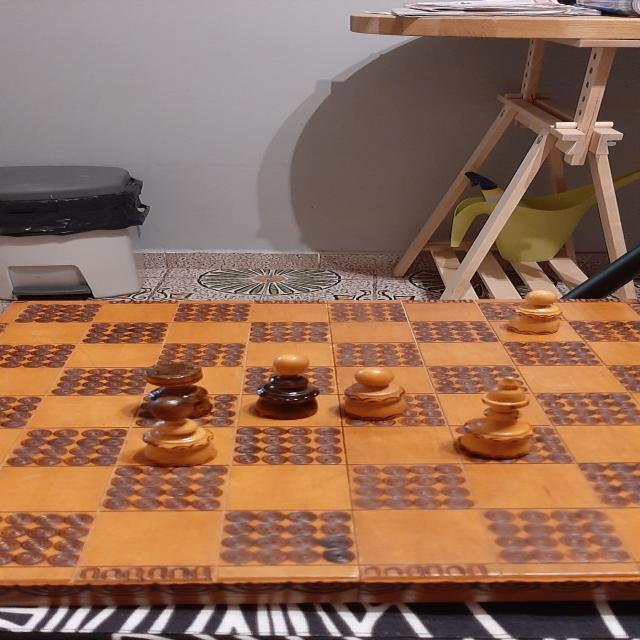black-bishop: (254, 354, 321, 420)
black-rook: (143, 362, 213, 419)
white-bishop: (141, 396, 218, 467)
white-pawn: (343, 367, 408, 421), (507, 290, 563, 335)
white-queen: (458, 376, 534, 460)
